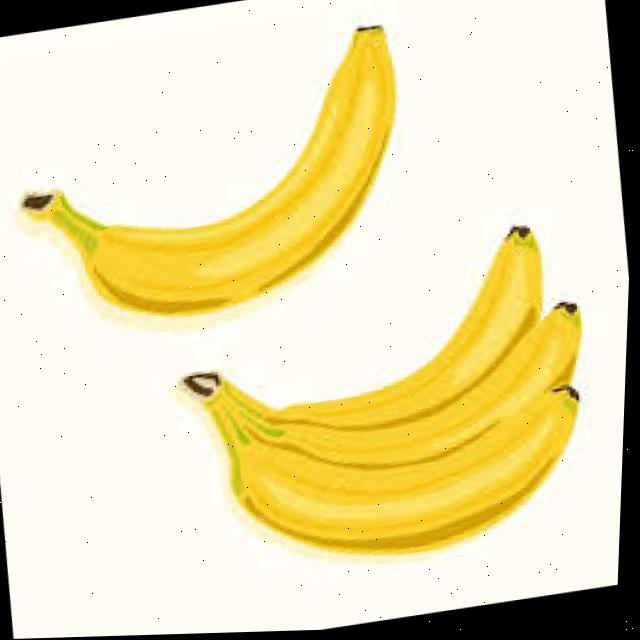Banana: (27, 29, 395, 312)
